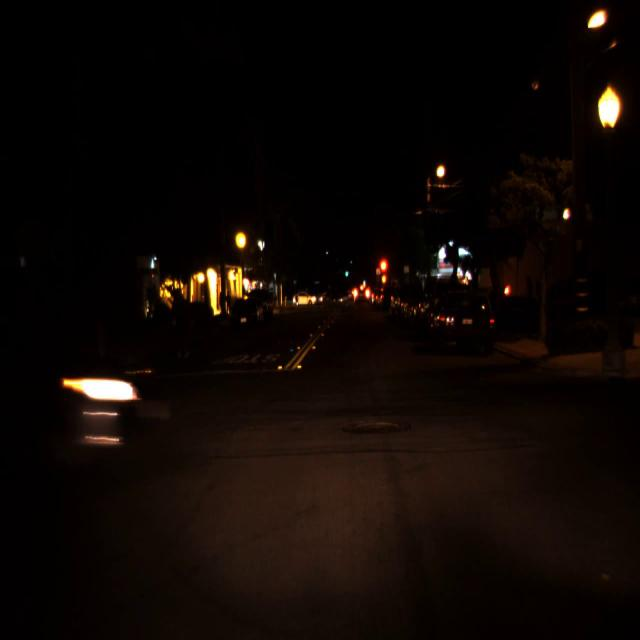go: (344, 266, 348, 276), (362, 276, 366, 284)
go traffic light: (344, 266, 348, 276), (362, 276, 366, 284)
stop: (378, 256, 390, 288)
stop traffic light: (378, 256, 390, 288)
